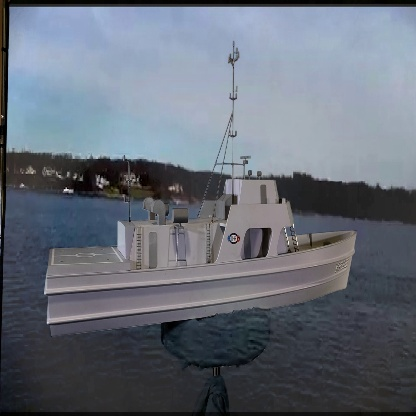YP689: (41, 38, 359, 338)
